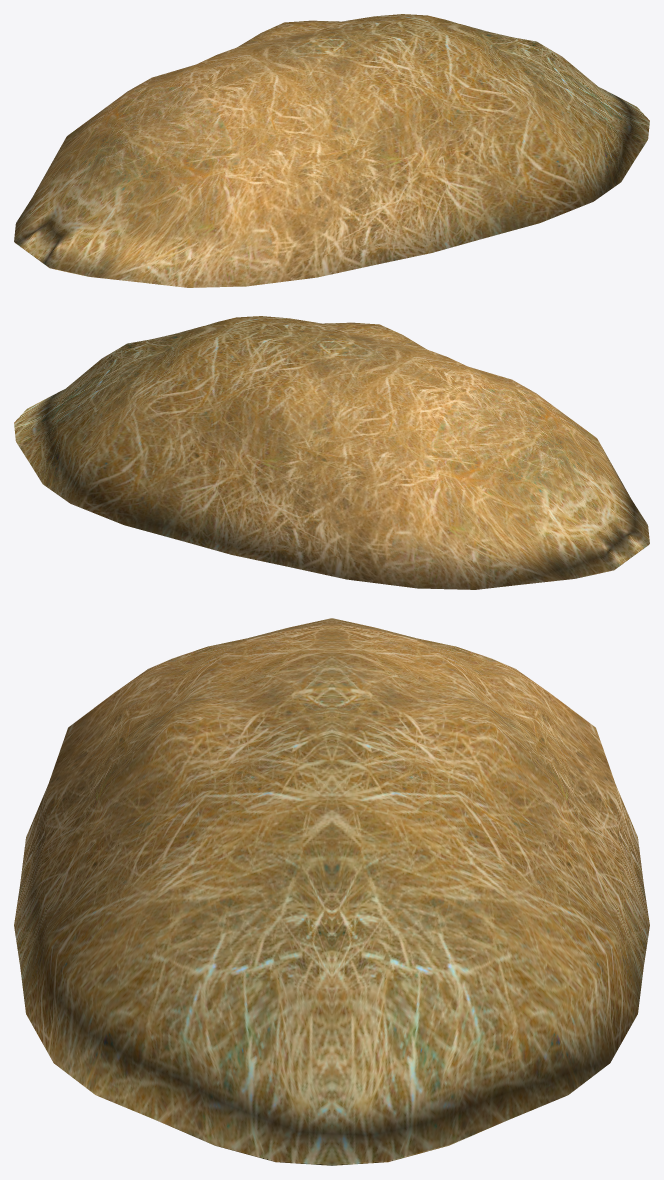
File: paddle_hay.fbx
3 renders of one model, top to bottom at view 1: azimuth 30°, elevation 25°; view 2: azimuth 150°, elevation 25°; view 3: azimuth 270°, elevation 25°, orthographic. The views are drawn at different scales.
Visible parts, largest first — view 1: Cone005; view 2: Cone005; view 3: Cone005.
Boxes of the visible parts, bbox=[...] form: Cone005: bbox=[14, 14, 649, 287]; Cone005: bbox=[14, 316, 649, 589]; Cone005: bbox=[14, 618, 649, 1165].
Bounding box in the file's own units: 4.1 × 0.9033 × 2.3.
